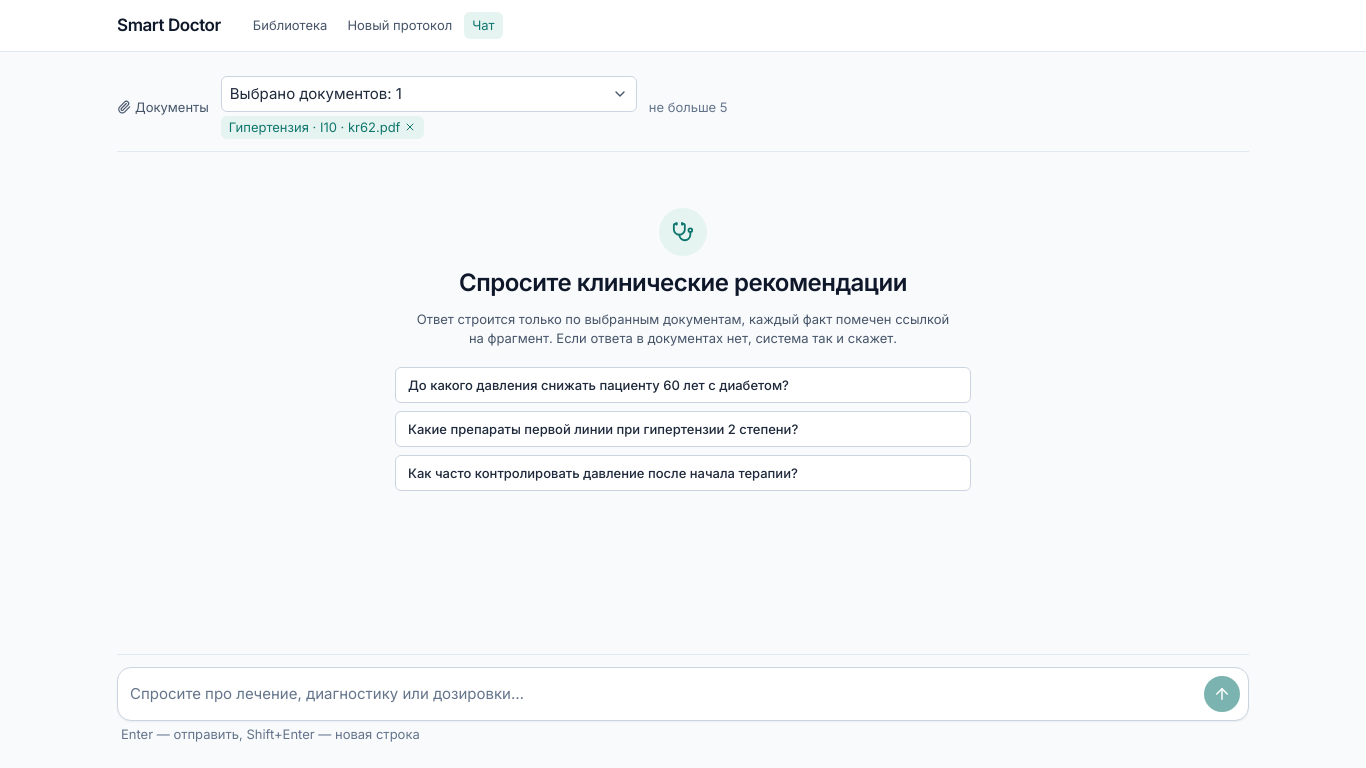
Test case: ChatPage › лента переживает переход в библиотеку и обратно
The image size is (1366, 768).
Type "до какого давления снижать пациенту 60 лет?" into the text box named "Вопрос по клинрекам" at point(661, 694), box left=126, top=676, right=1196, bottom=712
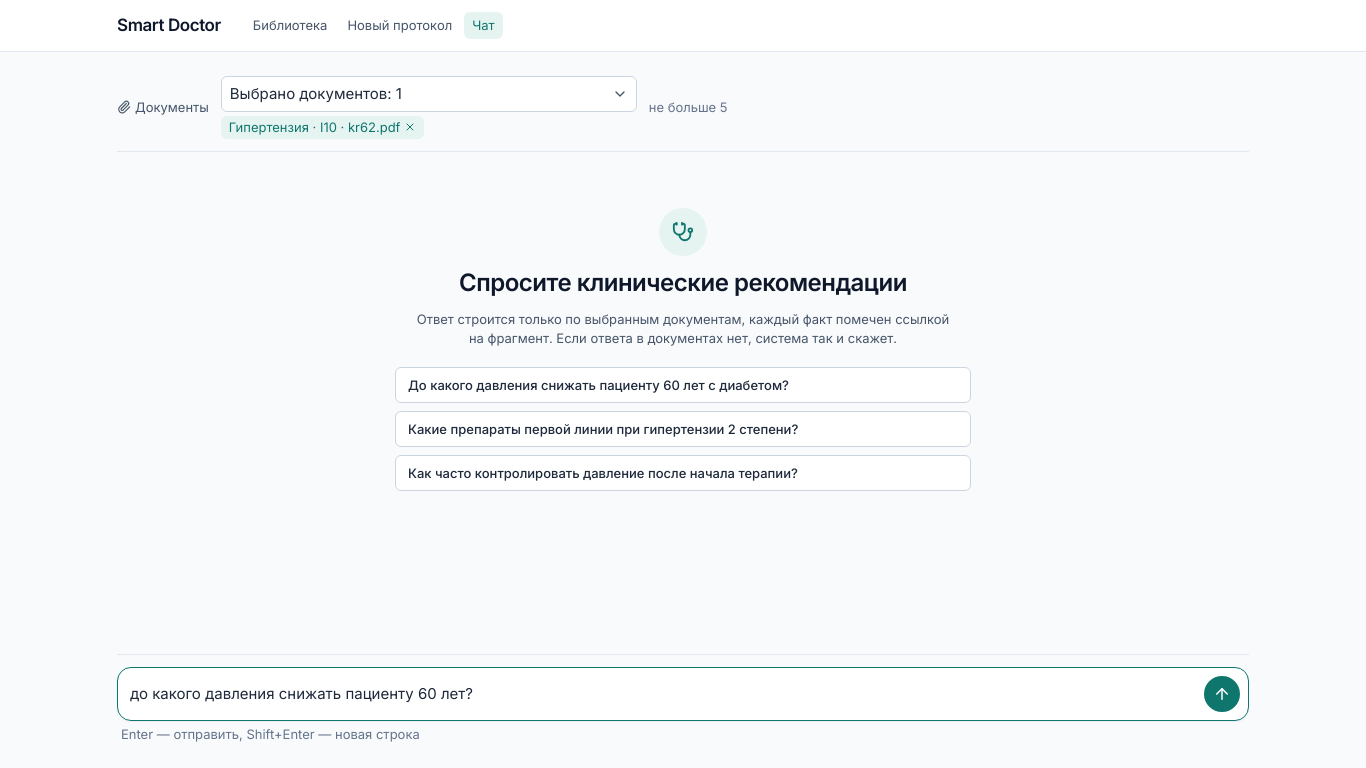
Click the button named "Отправить" at point(1222, 694), box left=1204, top=676, right=1240, bottom=712
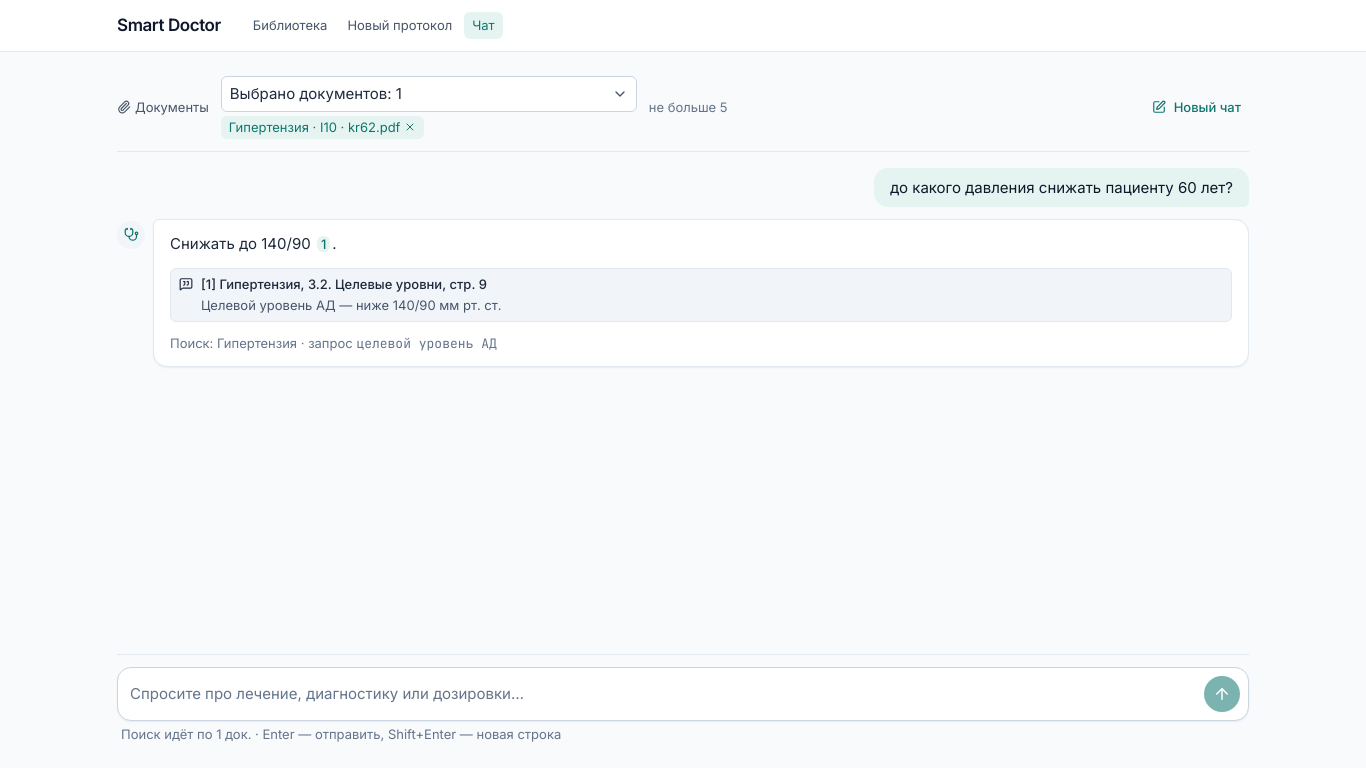
Result: the text "Снижать до 140/90 1 ." is shown at left=170, top=234, right=337, bottom=253
Click the link "Библиотека" at point(290, 25), box left=253, top=17, right=327, bottom=33
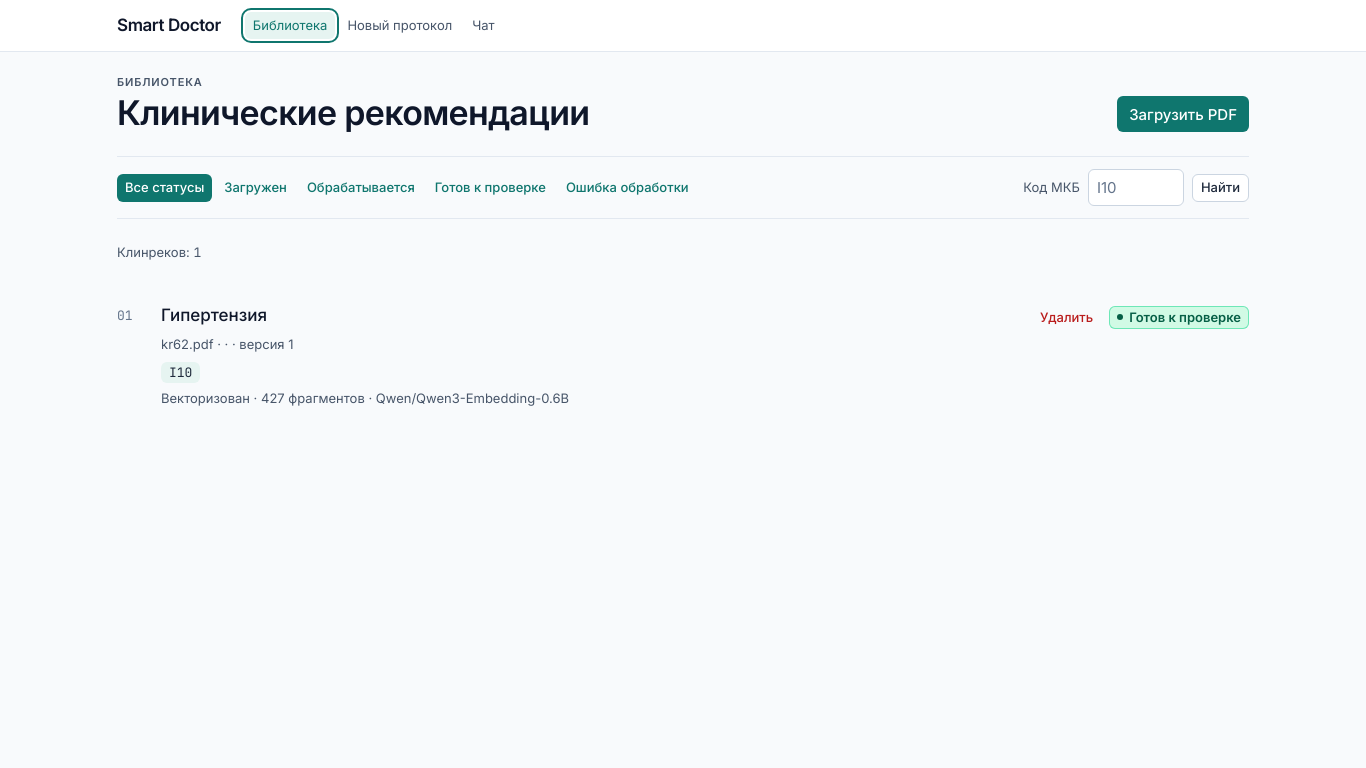
Result: the heading "Клинические рекомендации" is shown at left=117, top=93, right=589, bottom=132
Click the link "Чат" at point(483, 25), box left=472, top=17, right=495, bottom=33
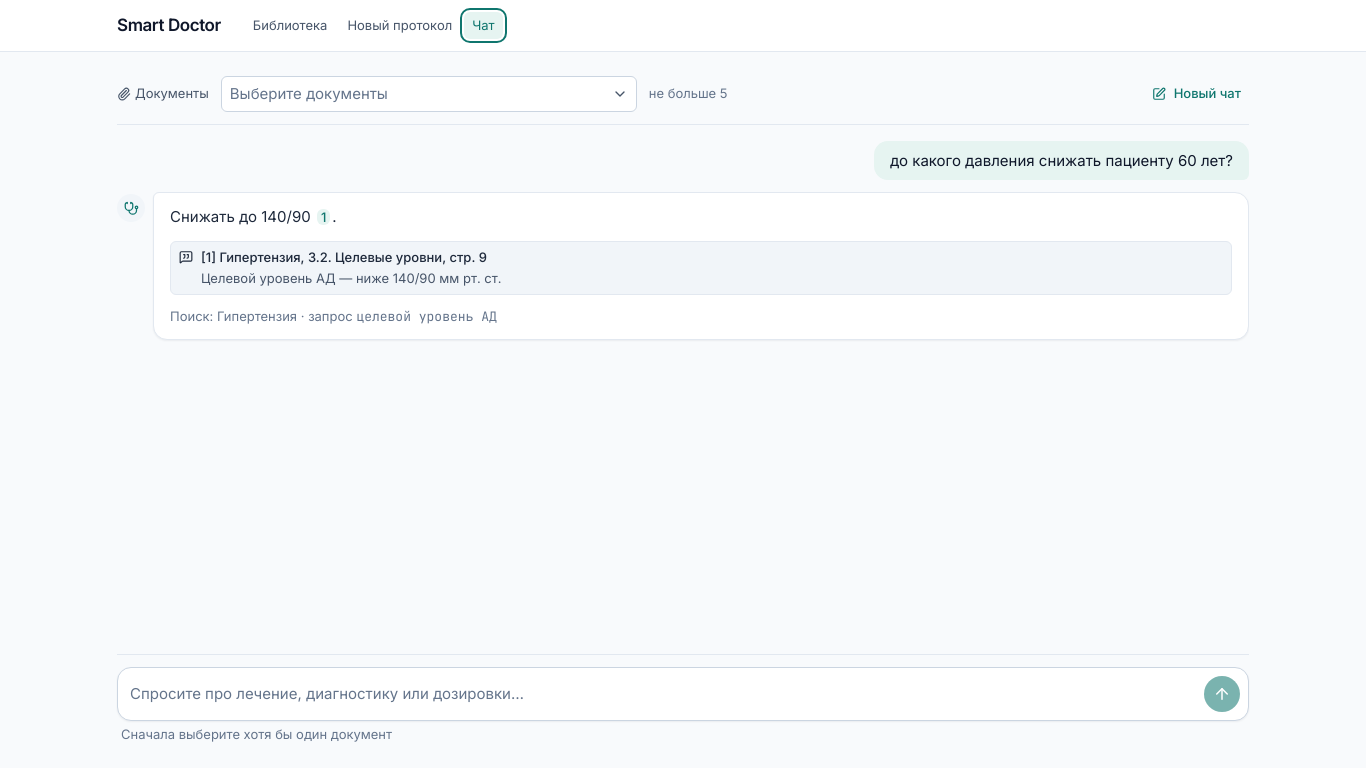
Result: the text "до какого давления снижать пациенту 60 лет?" is shown at left=874, top=141, right=1249, bottom=180
Result: the text "Снижать до 140/90 1 ." is shown at left=170, top=207, right=337, bottom=226
